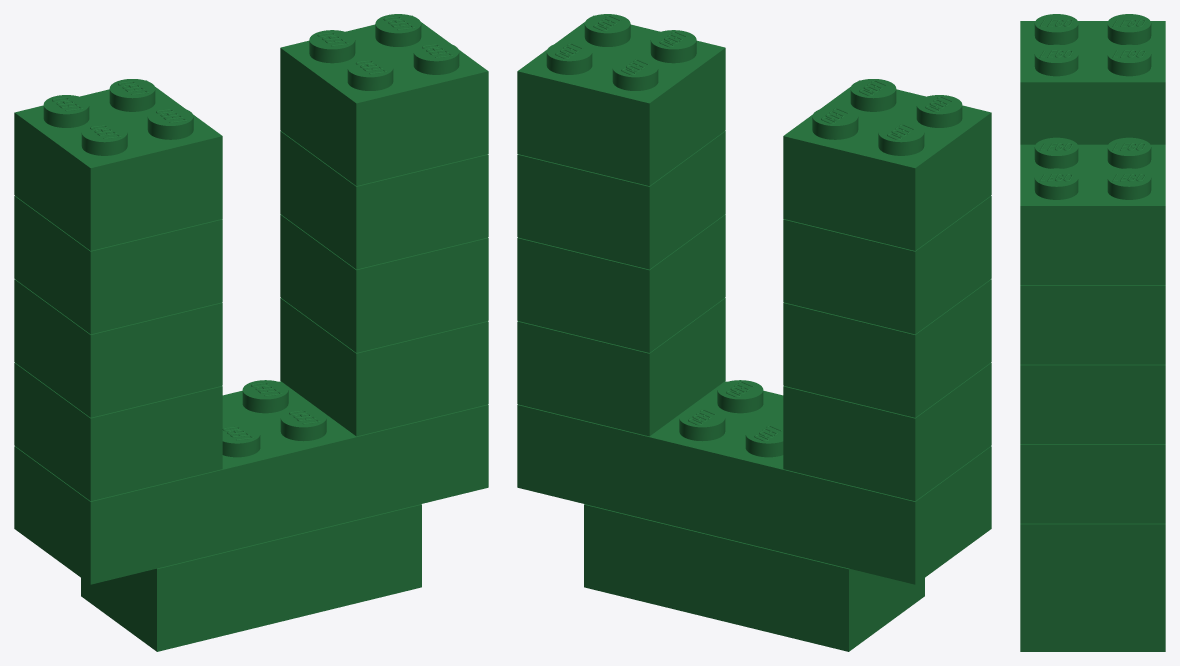
3 renders of one model, left to right at view 1: azimuth 30°, elevation 25°; view 2: azimuth 150°, elevation 25°; view 3: azimuth 270°, elevation 25°, orthographic. The views are drawn at different scales.
Visible parts, largest first — view 1: Inner-Node-V_dot_io-8, Inner-Node-V_dot_io-5, Inner-Node-V_dot_io-4, Inner-Node-V_dot_io-9, Inner-Node-V_dot_io-6, Inner-Node-V_dot_io-7, Inner-Node-V_dot_io-1, Inner-Node-V_dot_io-0, Inner-Node-V_dot_io-3, Inner-Node-V_dot_io-2; view 2: Inner-Node-V_dot_io-8, Inner-Node-V_dot_io-5, Inner-Node-V_dot_io-4, Inner-Node-V_dot_io-9, Inner-Node-V_dot_io-6, Inner-Node-V_dot_io-7, Inner-Node-V_dot_io-1, Inner-Node-V_dot_io-0, Inner-Node-V_dot_io-3, Inner-Node-V_dot_io-2; view 3: Inner-Node-V_dot_io-5, Inner-Node-V_dot_io-4, Inner-Node-V_dot_io-2, Inner-Node-V_dot_io-8, Inner-Node-V_dot_io-3, Inner-Node-V_dot_io-7, Inner-Node-V_dot_io-9.
Part boxes in pixels (bbox=[...]): Inner-Node-V_dot_io-8: bbox=[14, 380, 488, 584]; Inner-Node-V_dot_io-5: bbox=[280, 14, 488, 185]; Inner-Node-V_dot_io-4: bbox=[14, 79, 222, 250]; Inner-Node-V_dot_io-9: bbox=[81, 504, 421, 651]; Inner-Node-V_dot_io-6: bbox=[14, 362, 222, 501]; Inner-Node-V_dot_io-7: bbox=[280, 298, 488, 436]; Inner-Node-V_dot_io-1: bbox=[14, 196, 222, 334]; Inner-Node-V_dot_io-0: bbox=[14, 279, 222, 417]; Inner-Node-V_dot_io-3: bbox=[280, 131, 488, 269]; Inner-Node-V_dot_io-2: bbox=[280, 214, 488, 352]; Inner-Node-V_dot_io-8: bbox=[517, 380, 991, 584]; Inner-Node-V_dot_io-5: bbox=[517, 14, 725, 185]; Inner-Node-V_dot_io-4: bbox=[783, 79, 991, 250]; Inner-Node-V_dot_io-9: bbox=[584, 504, 924, 651]; Inner-Node-V_dot_io-6: bbox=[783, 362, 991, 501]; Inner-Node-V_dot_io-7: bbox=[517, 298, 725, 436]; Inner-Node-V_dot_io-1: bbox=[783, 196, 991, 334]; Inner-Node-V_dot_io-0: bbox=[783, 279, 991, 417]; Inner-Node-V_dot_io-3: bbox=[517, 131, 725, 269]; Inner-Node-V_dot_io-2: bbox=[517, 214, 725, 352]; Inner-Node-V_dot_io-5: bbox=[1020, 137, 1165, 284]; Inner-Node-V_dot_io-4: bbox=[1020, 14, 1165, 144]; Inner-Node-V_dot_io-2: bbox=[1020, 364, 1165, 444]; Inner-Node-V_dot_io-8: bbox=[1020, 523, 1165, 603]; Inner-Node-V_dot_io-3: bbox=[1020, 285, 1165, 364]; Inner-Node-V_dot_io-7: bbox=[1020, 444, 1165, 523]; Inner-Node-V_dot_io-9: bbox=[1020, 603, 1165, 651].
Size of the model in its own units: 120 by 148 by 39.75.
